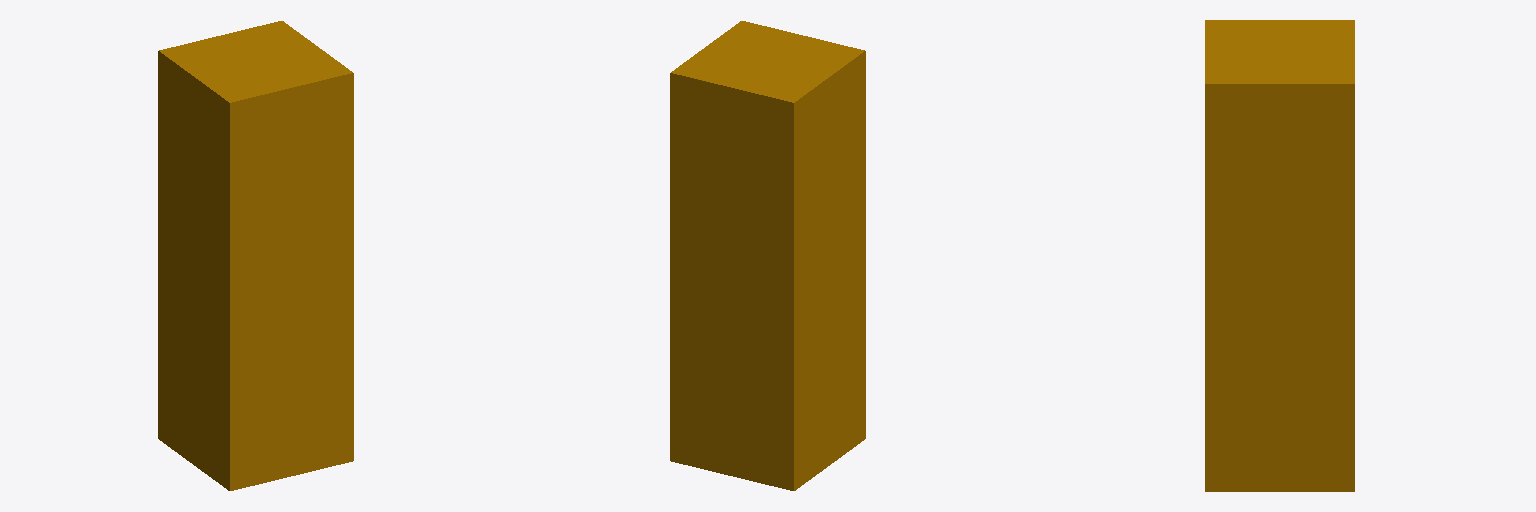
The robot description file, URDF, robot "objects":
<?xml  version="1.0"?>
<robot name ="objects"> 
    <!-- Author: [author]; e-mail:[email redacted]. The urdf file was develped in tongji university.-->

    <!--create  color params-->
    <material name ="LightGrey">
        <color rgba="0.7 0.7 0.7 1.0"/>
    </material>

    <material name ="White">
        <color rgba="1 1 1 1.0"/>
    </material>

    <material name ="Green">
        <color rgba="0.1. 0. 1.0"/>
    </material>

    <material name ="Yellow">
        <color rgba="1. 1. 0. 1.0"/>
    </material>

    <material name ="Orange">
        <color rgba="1. 0.38 0. 1.0"/>
    </material>

    <material name ="Blue">
        <color rgba="0.69 0.87 0.9 1.0"/>
    </material>

    <material name ="Black">
        <color rgba="0. 0. 0. 1.0"/>
    </material>

    <material name ="DarkGold">
        <color rgba="0.72 0.52 0.04 1.0"/>
    </material>

    <mass name ="table_mass">
        <mass value="1.0"/>
    </mass>

    <mass name ="cylander_mass">
        <mass value="2.0"/>
    </mass>



    <link  name ="World"/>

    <joint name="cylinder1_to_world" type="floating">
        <parent link="World"/>
        <child link="cylinder1"/>
        <origin xyz="0. 0. 0." rpy="0.0 0.0 0.0"/>
    </joint>

    <link name = "cylinder1">
        <contact>
            <lateral_friction value="0.05"/>
            <rolling_friction value="0.0"/>
            <contact_erp value="1.0"/>
        </contact>
        <visual>
            <origin  xyz="0.0 0.0 0.0" rpy="0.0 0.0 0.0"/>
            <geometry>
                <mesh filename = "meshes/square.stl"/>
            </geometry >
            <material name ="DarkGold"/>
        </visual>
        <collision>
            <origin xyz="0.0 0.0 0.0" rpy="0.0 0.0 0.0"/>
            <geometry>
                <mesh filename ="meshes/square.stl"/>
            </geometry>
        </collision>
        <inertial>
            <mass value = "0.5"/>
            <inertia ixx="1" ixy="0.0" ixz="0.0" iyy="1" iyz="0.0" izz="1"/>
        </inertial>
    </link>
</robot>

--- Render facts (derived) ---
3 views of the same robot in one strip: view 1: azimuth 30°, elevation 25°; view 2: azimuth 150°, elevation 25°; view 3: azimuth 270°, elevation 25° (orthographic).
Robot: objects — 2 links, 1 joints (1 floating); root link World; default pose: all joints at 0.
Links seen in each view (by area): view 1: cylinder1; view 2: cylinder1; view 3: cylinder1.
Boxes of the visible links, x1=… form: cylinder1: x1=158, y1=21, x2=353, y2=490; cylinder1: x1=670, y1=21, x2=865, y2=490; cylinder1: x1=1205, y1=20, x2=1354, y2=491.
Size in the robot's own frame: 0.1 by 0.1 by 0.3 metres.
Meshes: 1 distinct files referenced, 1 mesh visuals loaded (1 binary STL).